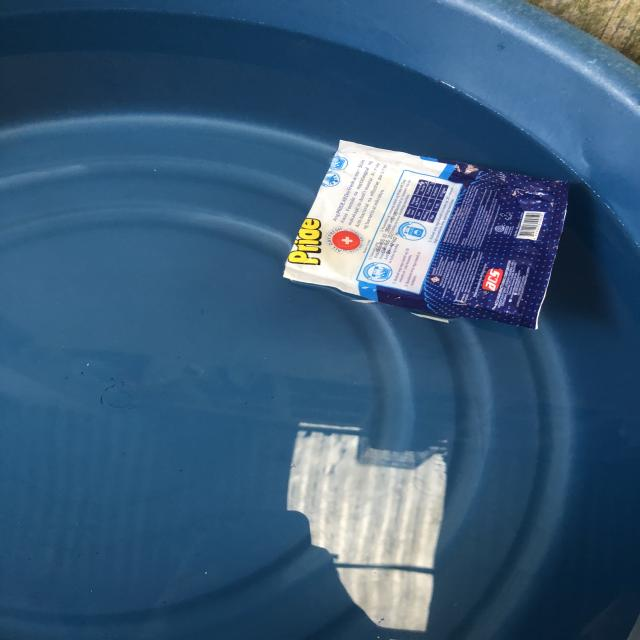Plastic Wrapper: (256, 122, 595, 348)
